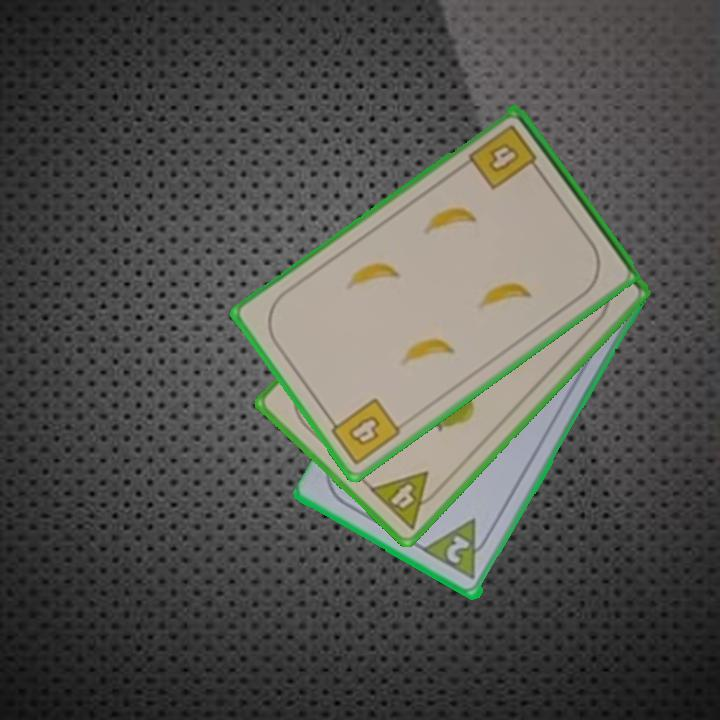2p: (442, 532, 473, 567)
4b: (323, 394, 404, 469), (465, 121, 544, 193)
4p: (365, 467, 446, 533)
